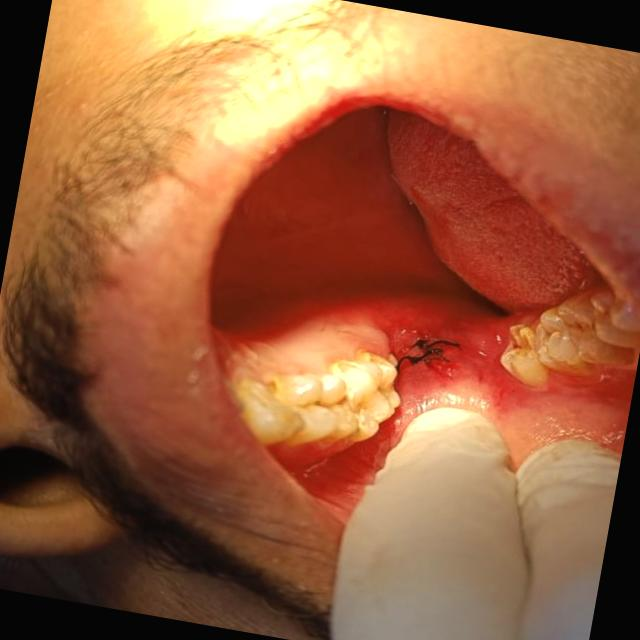No Cancer: (344, 260, 512, 414)
